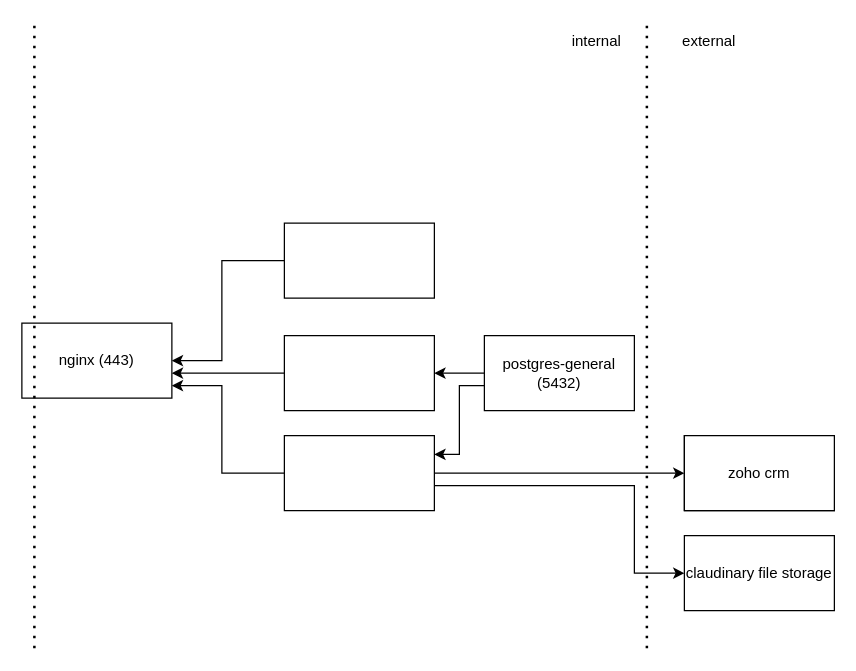
The diagram is 856 pixels wide and 671 high, and some of its shapes have lost their labels. Each missing label, with the centre of its shape:
"grafana (9876)" belongs at (358,372).
"pt-general (8000)" belongs at (358,472).
"pt-web (5174)" belongs at (358,260).
